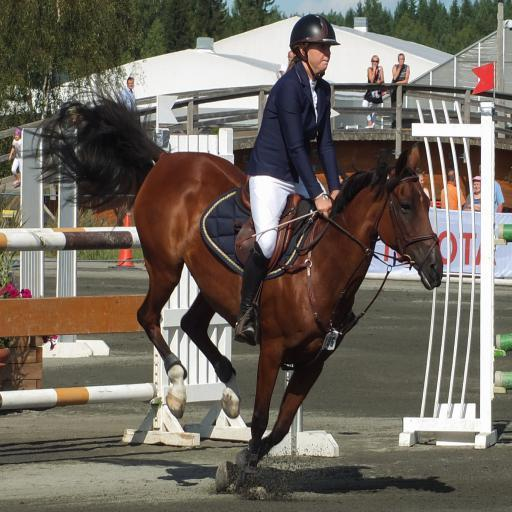horse: (20, 68, 444, 492)
